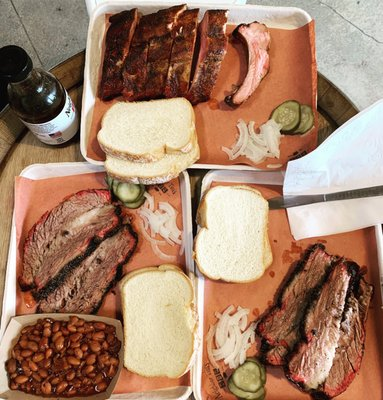soup: (18, 187, 138, 315), (96, 97, 200, 186)
